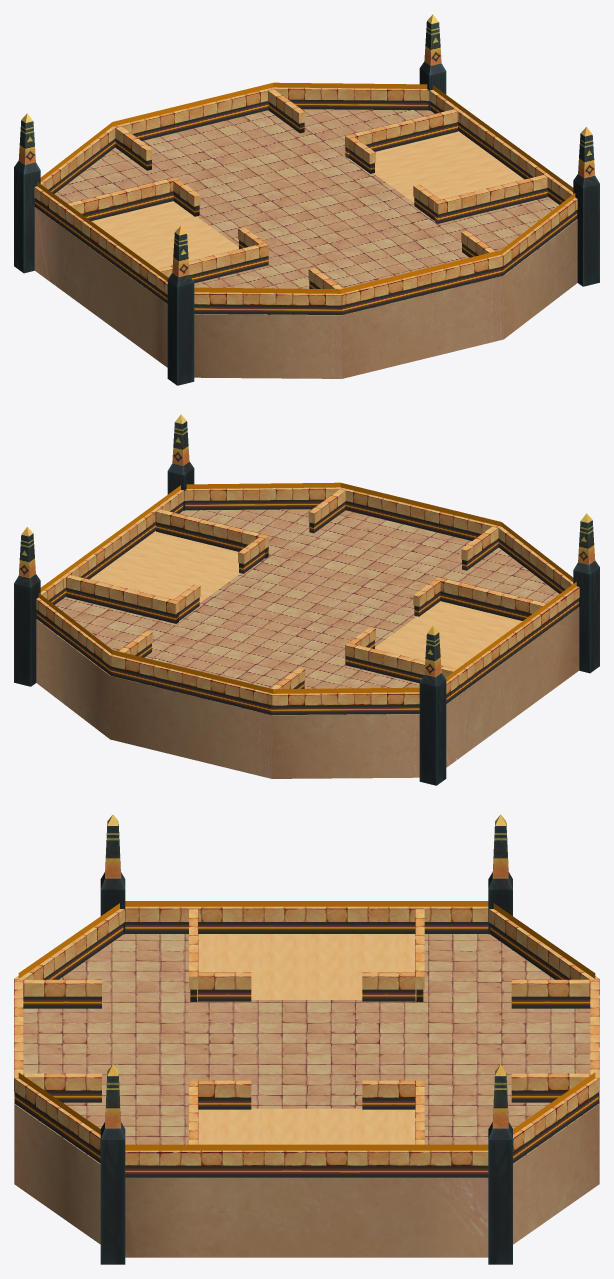
File: Battle_Stage 42.fbx
3 renders of one model, top to bottom at view 1: azimuth 30°, elevation 25°; view 2: azimuth 150°, elevation 25°; view 3: azimuth 270°, elevation 25°, orthographic. The views are drawn at different scales.
Visible parts, largest first — view 1: Cube_016, CR_Platform_Cube.067, CR_Platform_Cube.068, Plane.184; view 2: Cube_016, CR_Platform_Cube.067, CR_Platform_Cube.068, Plane.184; view 3: Cube_016, CR_Platform_Cube.067, CR_Platform_Cube.068, Plane.184.
Part boxes in pixels (x1,y1,x2,y2): Cube_016: (34, 109, 577, 378); CR_Platform_Cube.067: (34, 87, 577, 314); CR_Platform_Cube.068: (14, 14, 599, 385); Plane.184: (37, 82, 575, 293); Cube_016: (36, 509, 579, 778); CR_Platform_Cube.067: (36, 487, 579, 714); CR_Platform_Cube.068: (14, 414, 599, 785); Plane.184: (38, 482, 576, 693); Cube_016: (14, 934, 599, 1257); CR_Platform_Cube.067: (14, 906, 599, 1177); CR_Platform_Cube.068: (100, 814, 512, 1264); Plane.184: (18, 901, 595, 1150).
Bounding box in the file's own units: 7091 × 2434 × 6623.
